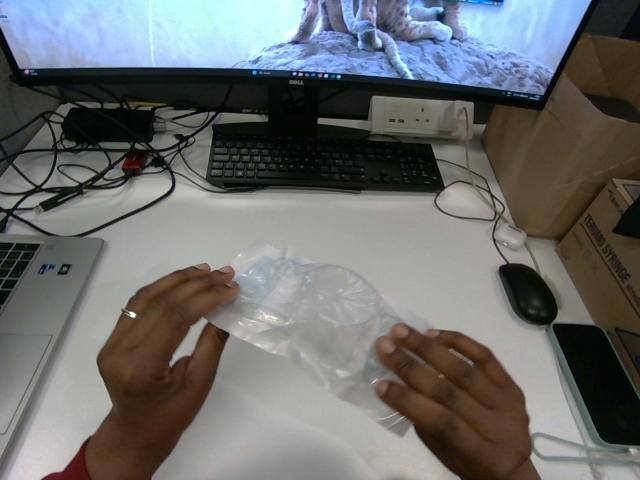gallipot: (207, 240, 428, 434)
